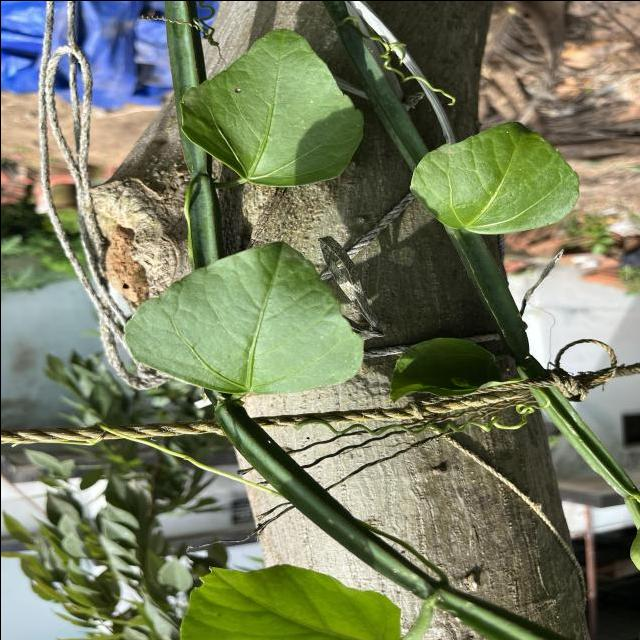Cissus quadrangularis: (119, 236, 368, 399), (174, 27, 368, 190), (406, 118, 581, 236)
